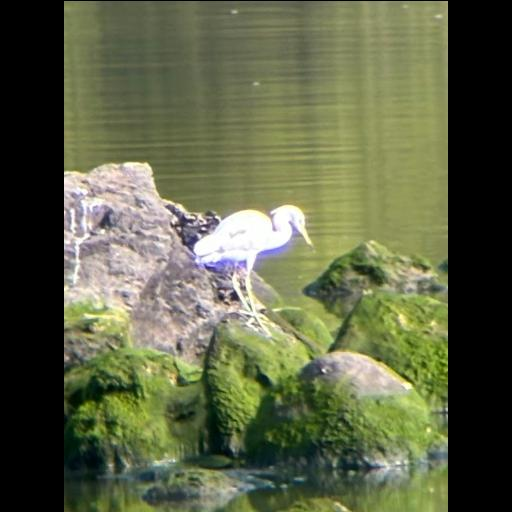chinese_egret: (194, 204, 314, 334)
